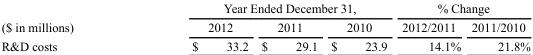table: (0, 0, 529, 52)
table column: (0, 0, 132, 52), (132, 0, 254, 52), (393, 0, 465, 52), (323, 0, 393, 52), (254, 0, 323, 52), (465, 0, 529, 52)
table column header: (0, 0, 529, 36)
table row: (0, 17, 529, 36), (0, 0, 529, 17), (0, 36, 529, 52)
table spanning cell: (0, 0, 132, 36), (132, 0, 393, 17), (393, 0, 529, 17)
